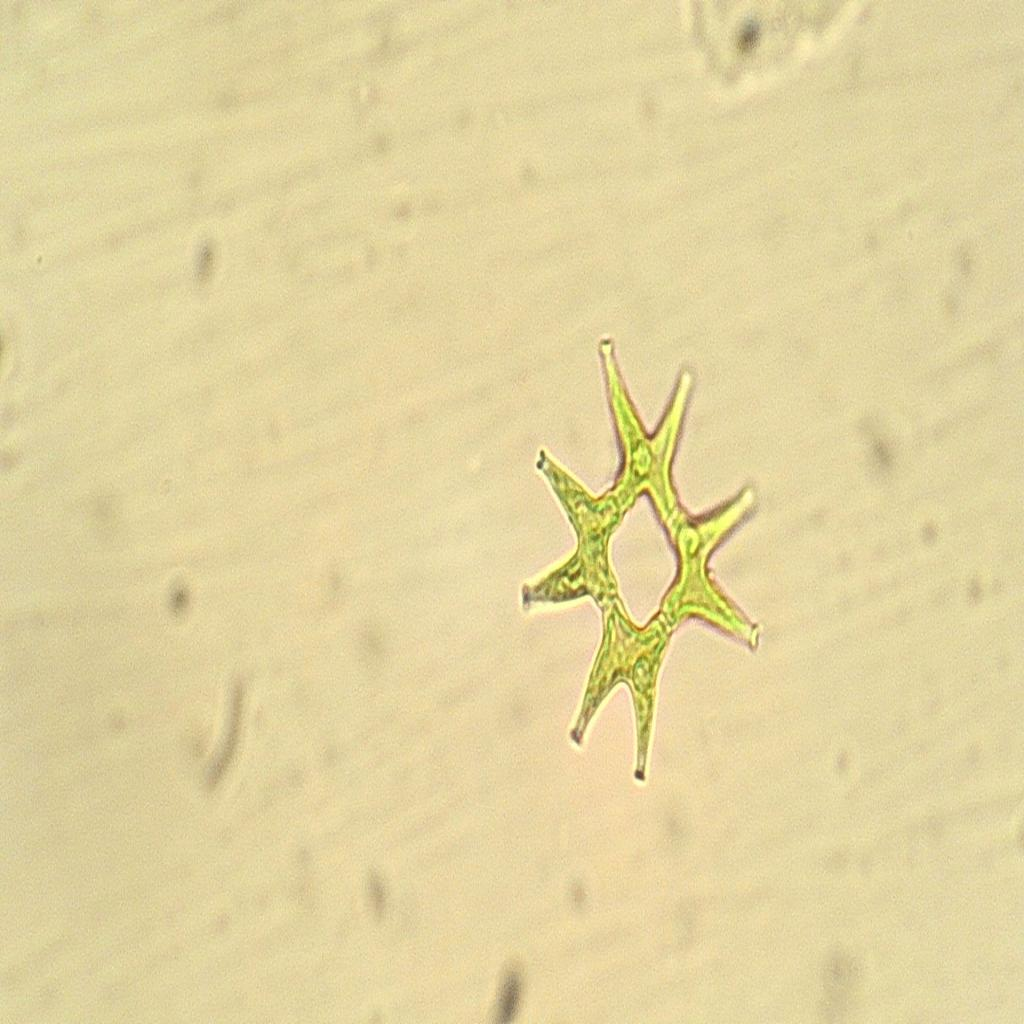Pediastrum_75O: (500, 330, 774, 804)
